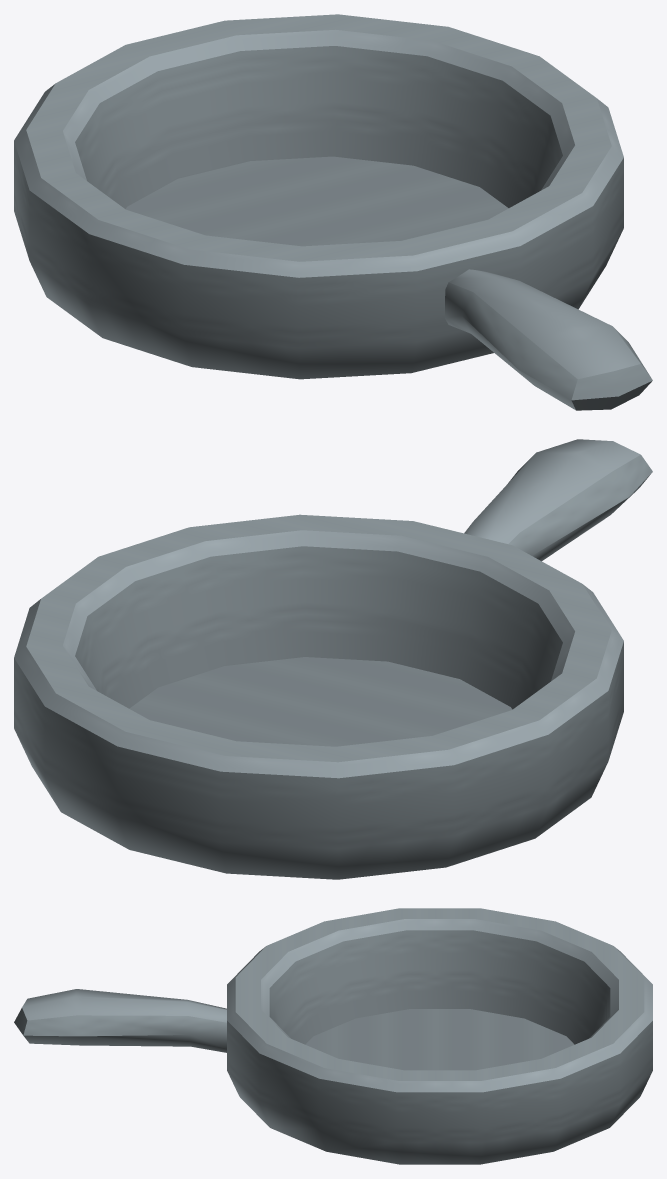
File: pan_A.gltf
The picture shows the model from 3 angles, top to bottom: view 1: azimuth 30°, elevation 25°; view 2: azimuth 150°, elevation 25°; view 3: azimuth 270°, elevation 25°; orthographic projection. The views are drawn at different scales.
Visible parts, largest first — view 1: pan_A; view 2: pan_A; view 3: pan_A.
Part boxes in pixels (left/top/right/bottom): pan_A: left=14, top=14, right=652, bottom=410; pan_A: left=14, top=439, right=652, bottom=879; pan_A: left=14, top=908, right=652, bottom=1164.
Size of the model in its own units: 1 by 0.25 by 1.5.
Materials: 1 (1 with a texture image).
